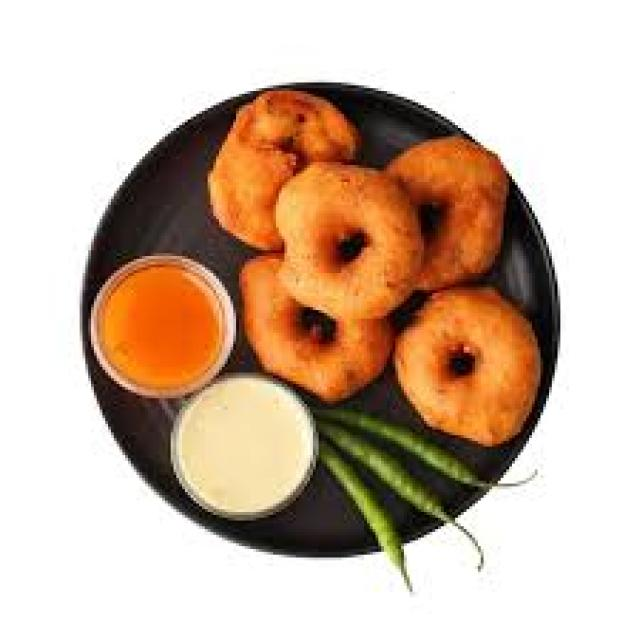MEDU VADA: (209, 91, 361, 248), (275, 167, 422, 316), (395, 290, 539, 442), (234, 259, 380, 399), (398, 140, 510, 296)
